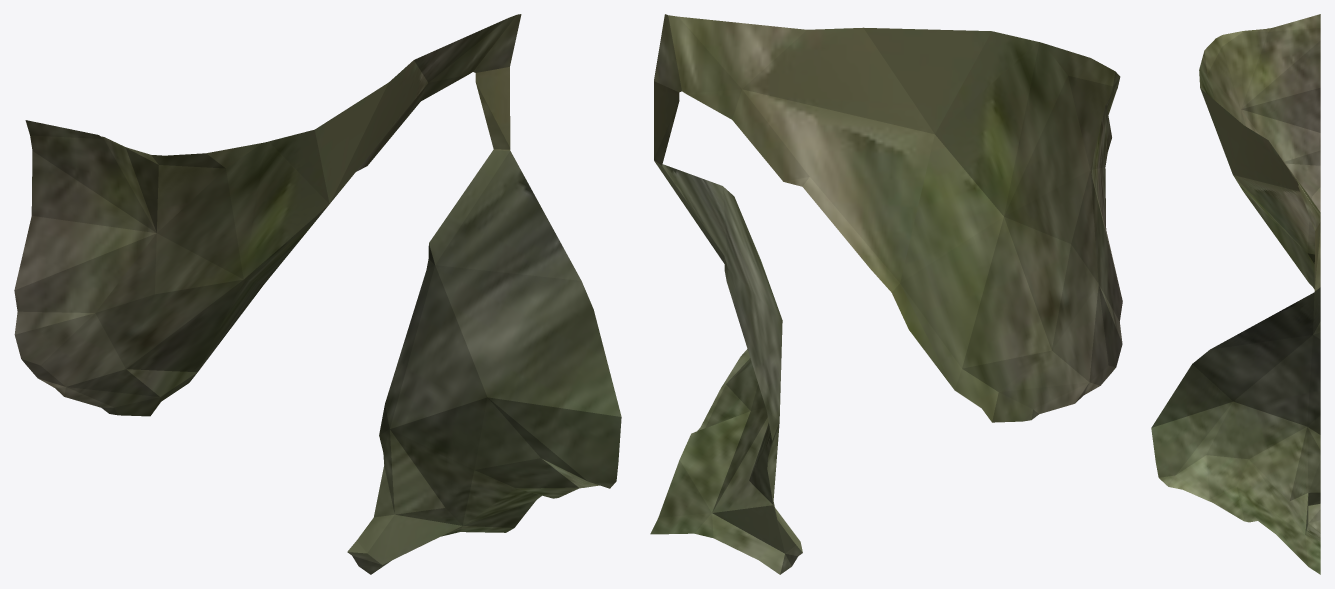
The picture shows the model from 3 angles, left to right: view 1: azimuth 30°, elevation 25°; view 2: azimuth 150°, elevation 25°; view 3: azimuth 270°, elevation 25°; orthographic projection. The views are drawn at different scales.
Size of the model in its own units: 1.94 by 2.04 by 0.7906.
Materials: 1 (1 with a texture image).
